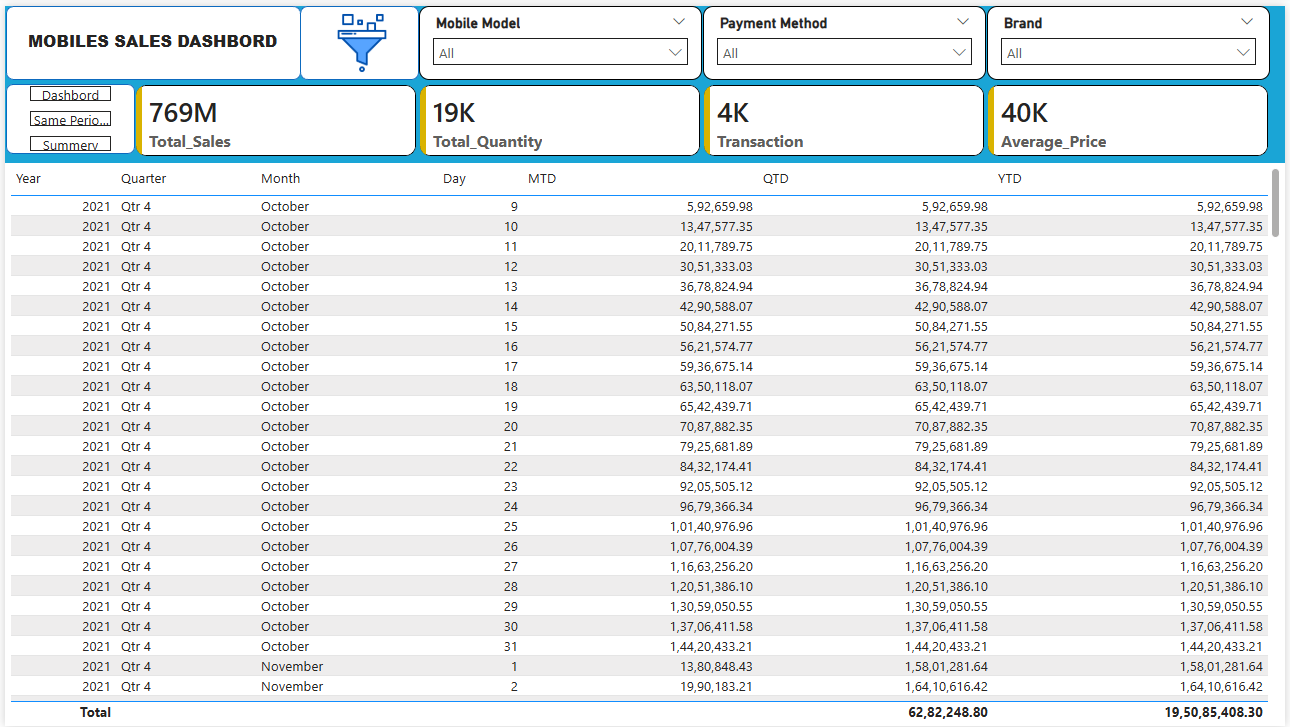

What the dashboard file says about the page in this screenshot:
{"tool":"powerbi","page":{"name":"MTD REPORT","canvas":[1280,720],"ordinal":1},"visuals":[{"type":"shape","box":[1,0,294.7,73.9],"z":0},{"type":"shape","box":[0.9,78.2,129.1,70],"z":1000},{"type":"cardVisual","fields":{"Data":["Mobile_Sales_Data.Total_Sales","Mobile_Sales_Data.Total_Quantity","Mobile_Sales_Data.Transaction","Mobile_Sales_Data.Average_Price"]},"box":[113.6,61.8,1166.4,105.5],"z":2000},{"type":"slicer","fields":{"Values":["Mobile_Sales_Data.Mobile Model"]},"box":[413.9,0,282.8,73.6],"z":3000},{"type":"shape","box":[295.4,0,118.4,73.6],"z":4000},{"type":"slicer","fields":{"Values":["Mobile_Sales_Data.Payment Method"]},"box":[697.9,0,282.8,73.6],"z":5000},{"type":"slicer","fields":{"Values":["Mobile_Sales_Data.Brand"]},"box":[981.8,0,282.7,73.6],"z":6000},{"type":"image","box":[308,6.9,96.6,59.8],"z":7000},{"type":"textbox","box":[18.5,17.5,260.7,38.9],"z":8000},{"type":"tableEx","fields":{"Values":["Custome_Calender.Date.Variation.Date Hierarchy.Year","Custome_Calender.Date.Variation.Date Hierarchy.Quarter","Custome_Calender.Date.Variation.Date Hierarchy.Month","Custome_Calender.Date.Variation.Date Hierarchy.Day","Mobile_Sales_Data.MTD","Mobile_Sales_Data.QTD","Mobile_Sales_Data.YTD"]},"box":[0,157.3,1280,562.7],"z":9000},{"type":"pageNavigator","box":[24.5,80,81.8,67.3],"z":9001}]}

Visuals, with their boxes in screenshot pixels (x1, y1, x2, y2), scaled from the page's 1280x720 canvas onto the 1290x727 screenshot:
shape: <region>1, 0, 298, 75</region>
shape: <region>1, 79, 131, 150</region>
cardVisual - Mobile_Sales_Data.Total_Sales x Mobile_Sales_Data.Total_Quantity: <region>114, 62, 1289, 169</region>
slicer - Mobile_Sales_Data.Mobile Model: <region>417, 0, 702, 74</region>
shape: <region>298, 0, 417, 74</region>
slicer - Mobile_Sales_Data.Payment Method: <region>703, 0, 988, 74</region>
slicer - Mobile_Sales_Data.Brand: <region>989, 0, 1274, 74</region>
image: <region>310, 7, 408, 67</region>
textbox: <region>19, 18, 281, 57</region>
tableEx - Custome_Calender.Date.Variation.Date Hierarchy.Year x Custome_Calender.Date.Variation.Date Hierarchy.Quarter: <region>0, 159, 1289, 726</region>
pageNavigator: <region>25, 81, 107, 149</region>
